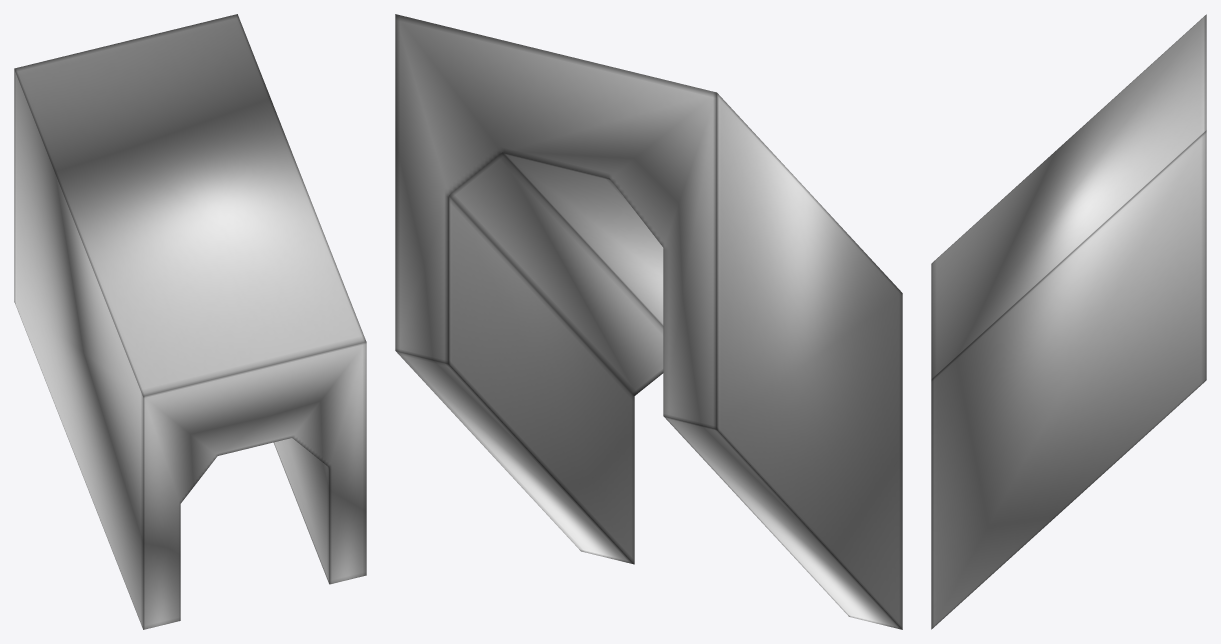
Rendered from Tunnel-04.fbx.
3 renders of one model, left to right at view 1: azimuth 30°, elevation 25°; view 2: azimuth 150°, elevation 25°; view 3: azimuth 270°, elevation 25°, orthographic. The views are drawn at different scales.
Visible parts, largest first — view 1: Tunnel-04; view 2: Tunnel-04; view 3: Tunnel-04.
Boxes of the visible parts, x1,y1,x2,y2 form: Tunnel-04: (14, 14, 366, 629); Tunnel-04: (395, 14, 902, 629); Tunnel-04: (931, 14, 1206, 629).
Bounding box in the file's own units: 1 × 2 × 1.
